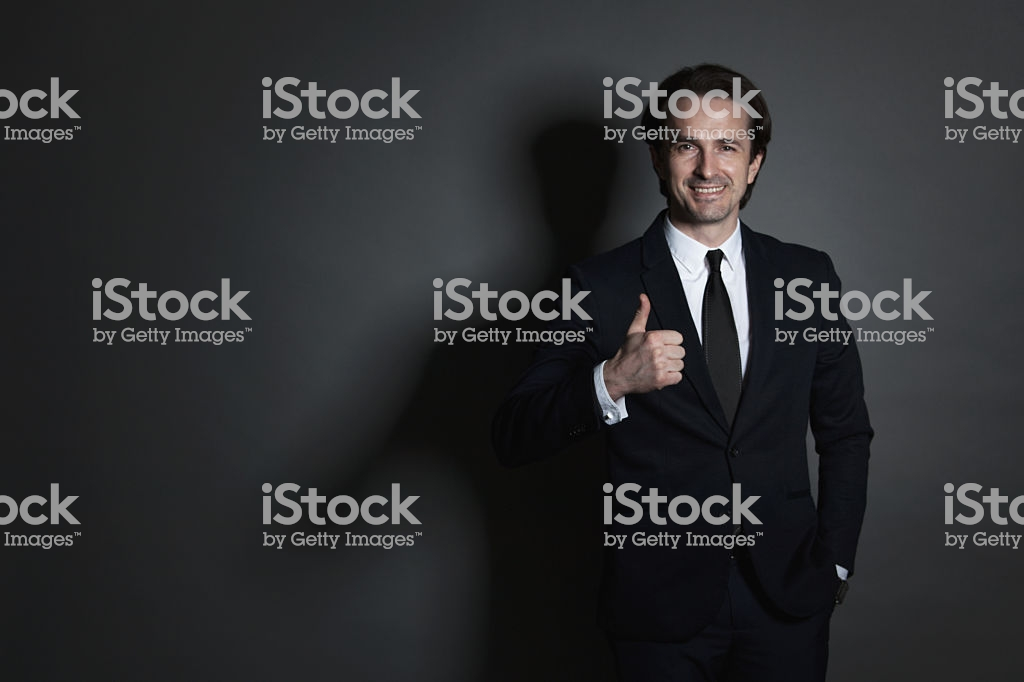thumbsup: (624, 292, 687, 393)
